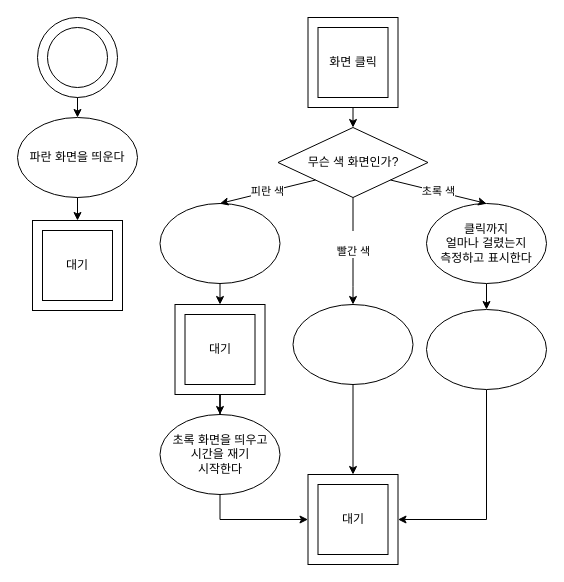
Some shapes in this 564 by 582 pixel diagram are drawn without their labels. Each missing label, with the centre of its shape:
빨간 화면으로 전환한다: point 219,243
시작: point 77,57
파란 화면으로 전환하고 성급했다고 안내한다: point 352,344
파란 화면으로 전환한다: point 486,349
